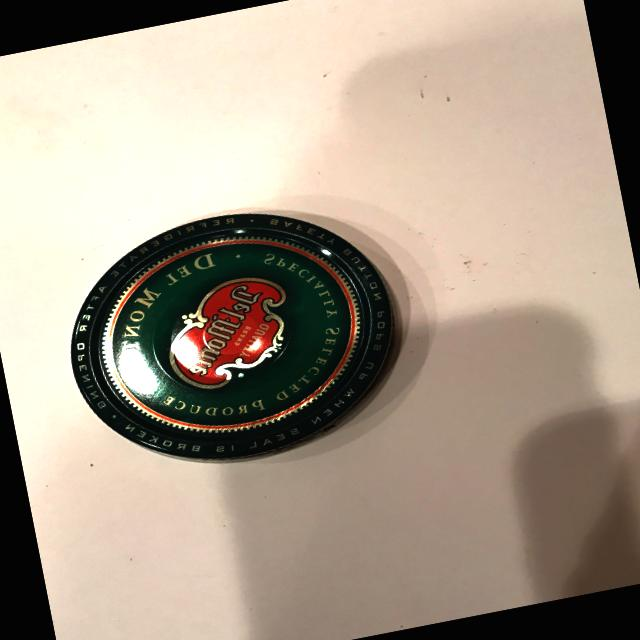Metal: (24, 174, 430, 504)
